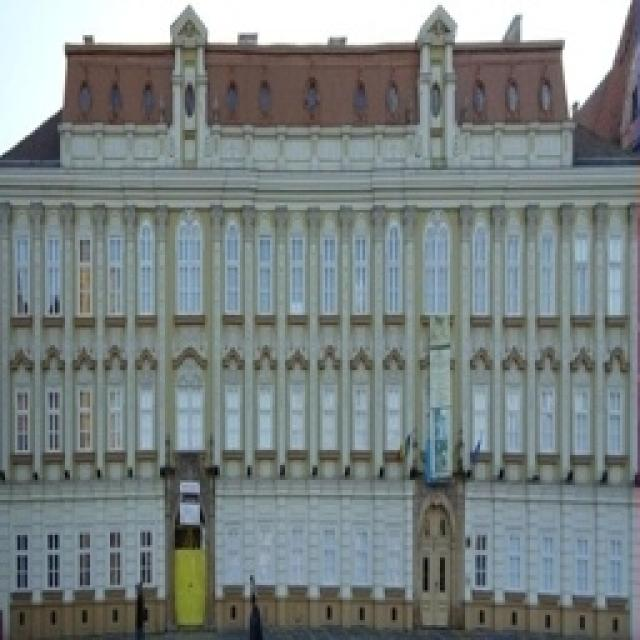building: (15, 20, 640, 638)
